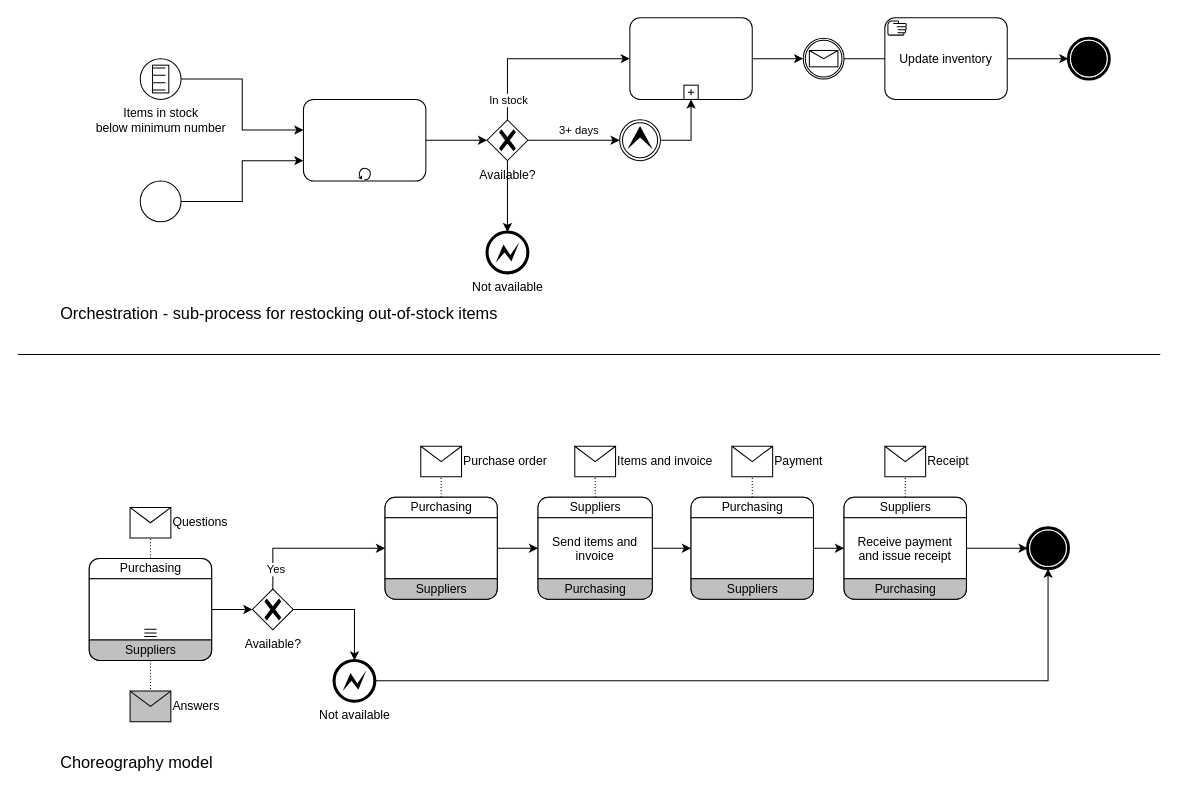
Image size: 1179x791. Some labels were removed from this diagram. Each missing label, with the centre of its shape:
"Check if available from suppliers" belongs at (364,139).
"Delivery delayed" belongs at (639,140).
"Do you have these out-of-stock items?" belongs at (150,609).
"Items received" belongs at (823,58).
"Order from supplier" belongs at (690,58).
"Receive items and pay invoice" belongs at (751,548).
"Submit purchase order" belongs at (440,548).
